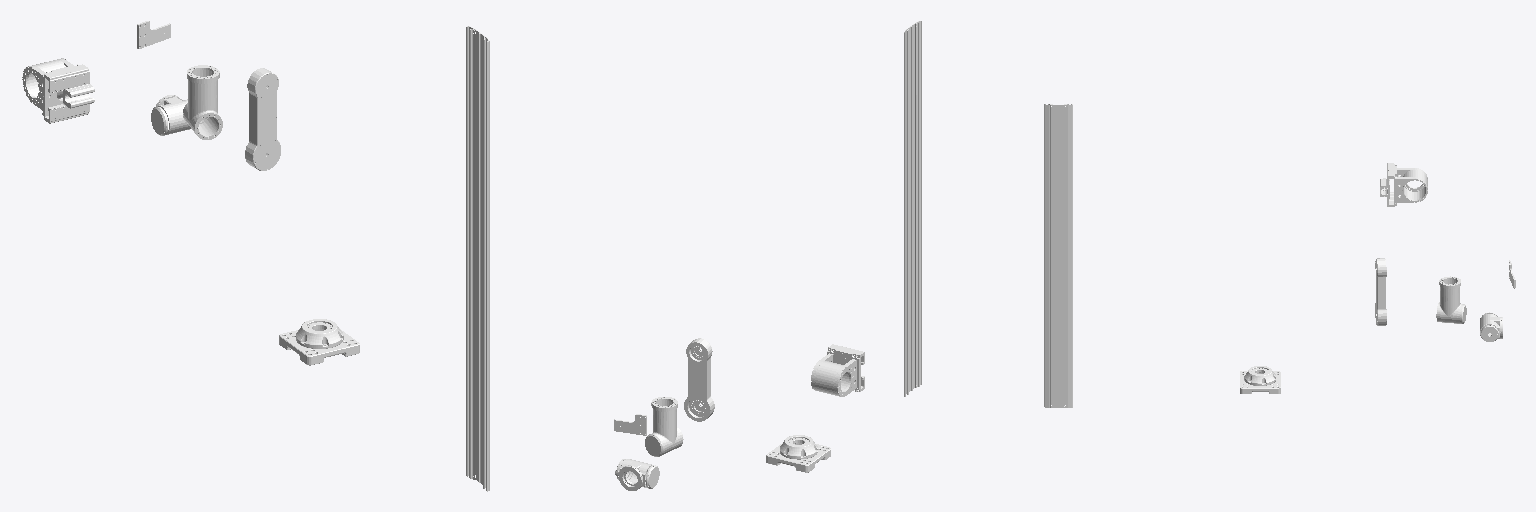
robot.urdf — auto_store_robot_moveit_config:
<?xml version="1.0" encoding="utf-8"?>
<!-- This URDF was automatically created by SolidWorks to URDF Exporter! Originally created by Stephen Brawner (brawner@gmail.com) 
     Commit Version: 1.6.0-4-g7f85cfe  Build Version: 1.6.7995.38578
     For more information, please see http://wiki.ros.org/sw_urdf_exporter -->
<robot
  name="auto_store_robot_moveit_config">
  <link
    name="base_link">
    <inertial>
      <origin
        xyz="0.134546485528339 1.02602768939509 0.0276854546001787"
        rpy="0 0 0" />
      <mass
        value="23.3444937848516" />
      <inertia
        ixx="8.32701438313121"
        ixy="7.28286627230501E-05"
        ixz="-0.000310690052795049"
        iyy="0.107967889260717"
        iyz="4.36975773385579E-06"
        izz="8.41823878097029" />
    </inertial>
    <visual>
      <origin
        xyz="0 0 0"
        rpy="0 0 0" />
      <geometry>
        <mesh
          filename="package://auto_store_robot_moveit_config/meshes/base_link.STL" />
      </geometry>
      <material
        name="">
        <color
          rgba="1 1 1 1" />
      </material>
    </visual>
    <collision>
      <origin
        xyz="0 0 0"
        rpy="0 0 0" />
      <geometry>
        <mesh
          filename="package://auto_store_robot_moveit_config/meshes/base_link.STL" />
      </geometry>
    </collision>
  </link>
  <link
    name="link0">
    <inertial>
      <origin
        xyz="0.109505946566475 1.56830006166103 0.306532290779036"
        rpy="0 0 0" />
      <mass
        value="8.67027571199243" />
      <inertia
        ixx="0.157321442418615"
        ixy="-8.27908336364168E-08"
        ixz="-3.9563923465251E-05"
        iyy="0.168279428124074"
        iyz="-0.00061319187243298"
        izz="0.0385008170436449" />
    </inertial>
    <visual>
      <origin
        xyz="0 0 0"
        rpy="0 0 0" />
      <geometry>
        <mesh
          filename="package://auto_store_robot_moveit_config/meshes/link0.STL" />
      </geometry>
      <material
        name="">
        <color
          rgba="1 1 1 1" />
      </material>
    </visual>
    <collision>
      <origin
        xyz="0 0 0"
        rpy="0 0 0" />
      <geometry>
        <mesh
          filename="package://auto_store_robot_moveit_config/meshes/link0.STL" />
      </geometry>
    </collision>
  </link>
  <joint
    name="joint0"
    type="prismatic">
    <origin
      xyz="0 -1 0.061584"
      rpy="0 0 0" />
    <parent
      link="base_link" />
    <child
      link="link0" />
    <axis
      xyz="0 -1 0" />
    <limit
      lower="0"
      upper="10"
      effort="0"
      velocity="0" />
  </joint>
  <link
    name="link1">
    <inertial>
      <origin
        xyz="0.0601483990121618 -0.443944828019226 1.73584633920143E-05"
        rpy="0 0 0" />
      <mass
        value="1.61107579942055" />
      <inertia
        ixx="0.00535049022759928"
        ixy="2.93344411058732E-06"
        ixz="1.48204762488548E-06"
        iyy="0.00451072278028574"
        iyz="-7.13026974104427E-07"
        izz="0.00349132610383157" />
    </inertial>
    <visual>
      <origin
        xyz="0 0 0"
        rpy="0 0 0" />
      <geometry>
        <mesh
          filename="package://auto_store_robot_moveit_config/meshes/link1.STL" />
      </geometry>
      <material
        name="">
        <color
          rgba="1 1 1 1" />
      </material>
    </visual>
    <collision>
      <origin
        xyz="0 0 0"
        rpy="0 0 0" />
      <geometry>
        <mesh
          filename="package://auto_store_robot_moveit_config/meshes/link1.STL" />
      </geometry>
    </collision>
  </link>
  <joint
    name="joint1"
    type="prismatic">
    <origin
      xyz="0.11 1.6149 0.75501"
      rpy="1.5708 0 1.5708" />
    <parent
      link="link0" />
    <child
      link="link1" />
    <axis
      xyz="0 1 0" />
    <limit
      lower="0"
      upper="10"
      effort="0"
      velocity="0" />
  </joint>
  <link
    name="link2">
    <inertial>
      <origin
        xyz="-0.16447187278791 0.0126535013198428 0.1148075556278"
        rpy="0 0 0" />
      <mass
        value="0.647403062770475" />
      <inertia
        ixx="0.00769642022641038"
        ixy="-4.08505677851646E-08"
        ixz="-3.98847238358034E-07"
        iyy="0.00703538356868817"
        iyz="-0.000698133966054456"
        izz="0.00077711503433307" />
    </inertial>
    <visual>
      <origin
        xyz="0 0 0"
        rpy="0 0 0" />
      <geometry>
        <mesh
          filename="package://auto_store_robot_moveit_config/meshes/link2.STL" />
      </geometry>
      <material
        name="">
        <color
          rgba="1 1 1 1" />
      </material>
    </visual>
    <collision>
      <origin
        xyz="0 0 0"
        rpy="0 0 0" />
      <geometry>
        <mesh
          filename="package://auto_store_robot_moveit_config/meshes/link2.STL" />
      </geometry>
    </collision>
  </link>
  <joint
    name="joint2"
    type="revolute">
    <origin
      xyz="0.149 -0.36401 0"
      rpy="1.680577537 0 1.5708" />
    <parent
      link="link1" />
    <child
      link="link2" />
    <axis
      xyz="1 0 0" />
    <limit
      lower="0"
      upper="10"
      effort="0"
      velocity="0" />
  </joint>
  <link
    name="link3">
    <inertial>
      <origin
        xyz="-0.0679648513950829 -0.0125948841535013 0.0597190016437489"
        rpy="0 0 0" />
      <mass
        value="0.441881459418396" />
      <inertia
        ixx="0.00203700043524144"
        ixy="7.88772850316558E-06"
        ixz="-3.72587738254305E-05"
        iyy="0.00197492955510684"
        iyz="0.0002024586276206"
        izz="0.00105738536278955" />
    </inertial>
    <visual>
      <origin
        xyz="0 0 0"
        rpy="0 0 0" />
      <geometry>
        <mesh
          filename="package://auto_store_robot_moveit_config/meshes/link3.STL" />
      </geometry>
      <material
        name="">
        <color
          rgba="1 1 1 1" />
      </material>
    </visual>
    <collision>
      <origin
        xyz="0 0 0"
        rpy="0 0 0" />
      <geometry>
        <mesh
          filename="package://auto_store_robot_moveit_config/meshes/link3.STL" />
      </geometry>
    </collision>
  </link>
  <joint
    name="joint3"
    type="revolute">
    <origin
      xyz="-0.01 0.027384 0.2485"
      rpy="-0.317649924 0 0" />
    <parent
      link="link2" />
    <child
      link="link3" />
    <axis
      xyz="1 0 0" />
    <limit
      lower="0"
      upper="10"
      effort="0"
      velocity="0" />
  </joint>
  <link
    name="link4">
    <inertial>
      <origin
        xyz="-2.79564493776974E-08 -0.00496995620296214 0.0493158936775911"
        rpy="0 0 0" />
      <mass
        value="0.359995634810237" />
      <inertia
        ixx="0.000833383267001712"
        ixy="-5.80615122944473E-10"
        ixz="-1.06693940356663E-09"
        iyy="0.000867927684121518"
        iyz="-2.36843136517962E-05"
        izz="0.000796685883214433" />
    </inertial>
    <visual>
      <origin
        xyz="0 0 0"
        rpy="0 0 0" />
      <geometry>
        <mesh
          filename="package://auto_store_robot_moveit_config/meshes/link4.STL" />
      </geometry>
      <material
        name="">
        <color
          rgba="1 1 1 1" />
      </material>
    </visual>
    <collision>
      <origin
        xyz="0 0 0"
        rpy="0 0 0" />
      <geometry>
        <mesh
          filename="package://auto_store_robot_moveit_config/meshes/link4.STL" />
      </geometry>
    </collision>
  </link>
  <joint
    name="joint4"
    type="revolute">
    <origin
      xyz="-0.0735 -0.036002 0.17075"
      rpy="0 -0.20781 1.5708" />
    <parent
      link="link3" />
    <child
      link="link4" />
    <axis
      xyz="0 0 -1" />
    <limit
      lower="0"
      upper="10"
      effort="0"
      velocity="0" />
  </joint>
  <link
    name="link5">
    <inertial>
      <origin
        xyz="-0.0043261798092078 0.0995606848099331 0.196143761355562"
        rpy="0 0 0" />
      <mass
        value="0.510480565529479" />
      <inertia
        ixx="0.00227074483099743"
        ixy="0.000362614836612502"
        ixz="4.62908409830221E-06"
        iyy="0.000423824726906599"
        iyz="-1.84746164595524E-05"
        izz="0.00213458613181978" />
    </inertial>
    <visual>
      <origin
        xyz="0 0 0"
        rpy="0 0 0" />
      <geometry>
        <mesh
          filename="package://auto_store_robot_moveit_config/meshes/link5.STL" />
      </geometry>
      <material
        name="">
        <color
          rgba="1 1 1 1" />
      </material>
    </visual>
    <collision>
      <origin
        xyz="0 0 0"
        rpy="0 0 0" />
      <geometry>
        <mesh
          filename="package://auto_store_robot_moveit_config/meshes/link5.STL" />
      </geometry>
    </collision>
  </link>
  <joint
    name="joint5"
    type="revolute">
    <origin
      xyz="0 -0.0735 0.0645"
      rpy="1.5708 0.187869814 -3.1416" />
    <parent
      link="link4" />
    <child
      link="link5" />
    <axis
      xyz="0 0 -1" />
    <limit
      lower="0"
      upper="10"
      effort="0"
      velocity="0" />
  </joint>
  <link
    name="link6">
    <inertial>
      <origin
        xyz="0.000386879822536601 -0.0239742458499962 0.247370540938741"
        rpy="0 0 0" />
      <mass
        value="0.241666672211744" />
      <inertia
        ixx="0.00150874213631951"
        ixy="-7.39898516606161E-07"
        ixz="4.30106270388266E-06"
        iyy="0.00142811966433766"
        iyz="-1.76423780164447E-05"
        izz="9.9415291304501E-05" />
    </inertial>
    <visual>
      <origin
        xyz="0 0 0"
        rpy="0 0 0" />
      <geometry>
        <mesh
          filename="package://auto_store_robot_moveit_config/meshes/link6.STL" />
      </geometry>
      <material
        name="">
        <color
          rgba="1 1 1 1" />
      </material>
    </visual>
    <collision>
      <origin
        xyz="0 0 0"
        rpy="0 0 0" />
      <geometry>
        <mesh
          filename="package://auto_store_robot_moveit_config/meshes/link6.STL" />
      </geometry>
    </collision>
  </link>
  <joint
    name="joint6"
    type="prismatic">
    <origin
      xyz="0.0035379 0.14737 0.2235"
      rpy="1.5708 0 -2.9537" />
    <parent
      link="link5" />
    <child
      link="link6" />
    <axis
      xyz="0 0 1" />
    <limit
      lower="0"
      upper="10"
      effort="0"
      velocity="0" />
  </joint>
</robot>

--- What the picture shows (computed from the rendered views, not written in the file) ---
The picture shows the robot from 3 angles, left to right: view 1: azimuth 30°, elevation 25°; view 2: azimuth 150°, elevation 25°; view 3: azimuth 270°, elevation 25°; orthographic projection.
Robot: auto_store_robot_moveit_config — 8 links, 7 joints (4 revolute, 3 prismatic); root link base_link; default pose: all joints at 0.
Visible links, largest first — view 1: link0, link1, link2, base_link, link3, link4, link5; view 2: link0, link1, link2, link3, base_link, link4; view 3: link0, link1, link3, base_link, link2, link4.
Link boxes in pixels (left/top/right/bottom): link0: left=466, top=26, right=489, bottom=491; link1: left=22, top=58, right=94, bottom=123; link2: left=245, top=68, right=280, bottom=170; base_link: left=279, top=319, right=359, bottom=365; link3: left=183, top=65, right=222, bottom=139; link4: left=151, top=95, right=190, bottom=135; link5: left=137, top=21, right=170, bottom=48; link0: left=904, top=21, right=921, bottom=396; link1: left=811, top=344, right=864, bottom=396; link2: left=684, top=338, right=714, bottom=421; link3: left=645, top=397, right=683, bottom=456; base_link: left=766, top=435, right=830, bottom=472; link4: left=615, top=459, right=659, bottom=490; link0: left=1044, top=104, right=1072, bottom=407; link1: left=1380, top=163, right=1427, bottom=206; link3: left=1436, top=276, right=1466, bottom=323; base_link: left=1240, top=366, right=1280, bottom=393; link2: left=1375, top=258, right=1386, bottom=325; link4: left=1480, top=312, right=1502, bottom=341.
Bounding box of the posed robot: 0.872 × 2.34 × 1.66 m (x, y, z).
Meshes: 8 distinct files referenced, 7 mesh visuals loaded (7 binary STL); not drawn: 1 (reference not matched to a file when rendering).
